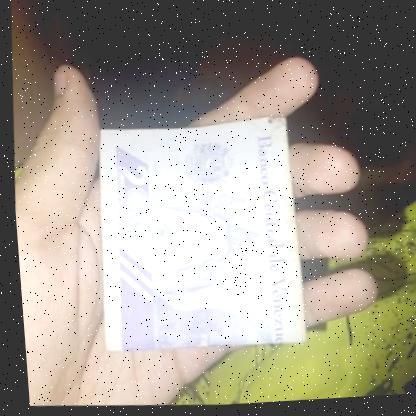ten-back-vef: (83, 116, 312, 362)
